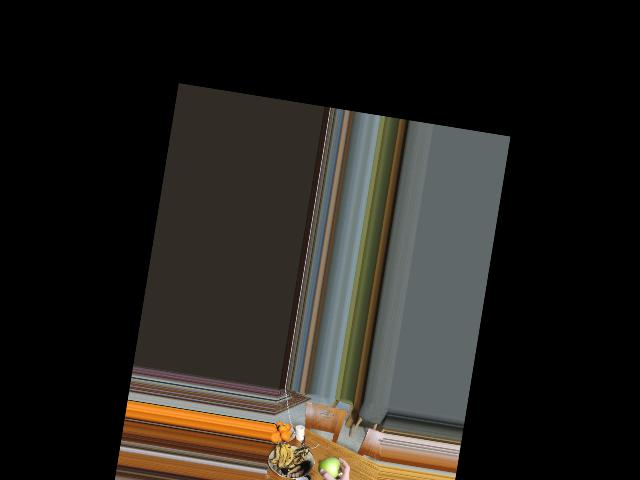apple: (317, 454, 341, 480)
